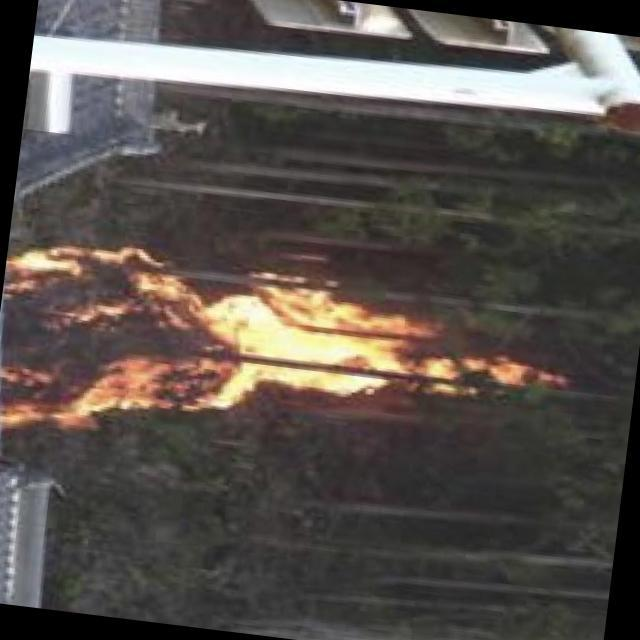Fire: (1, 229, 548, 479)
